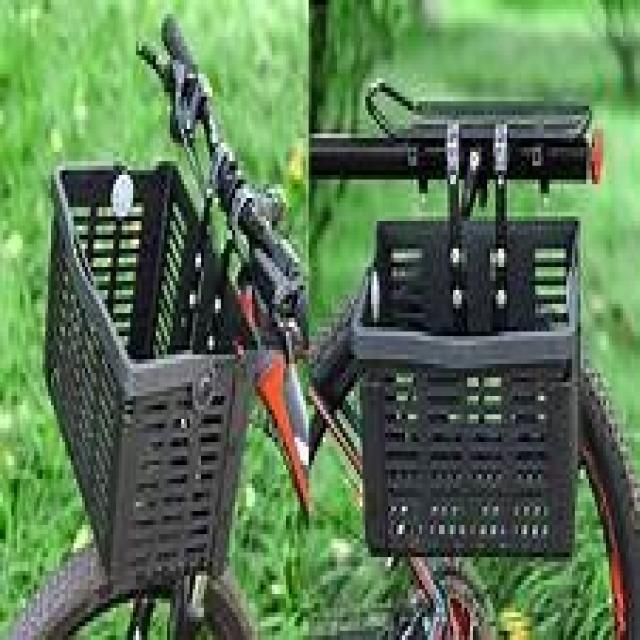basket: (36, 152, 262, 591), (347, 216, 586, 566)
